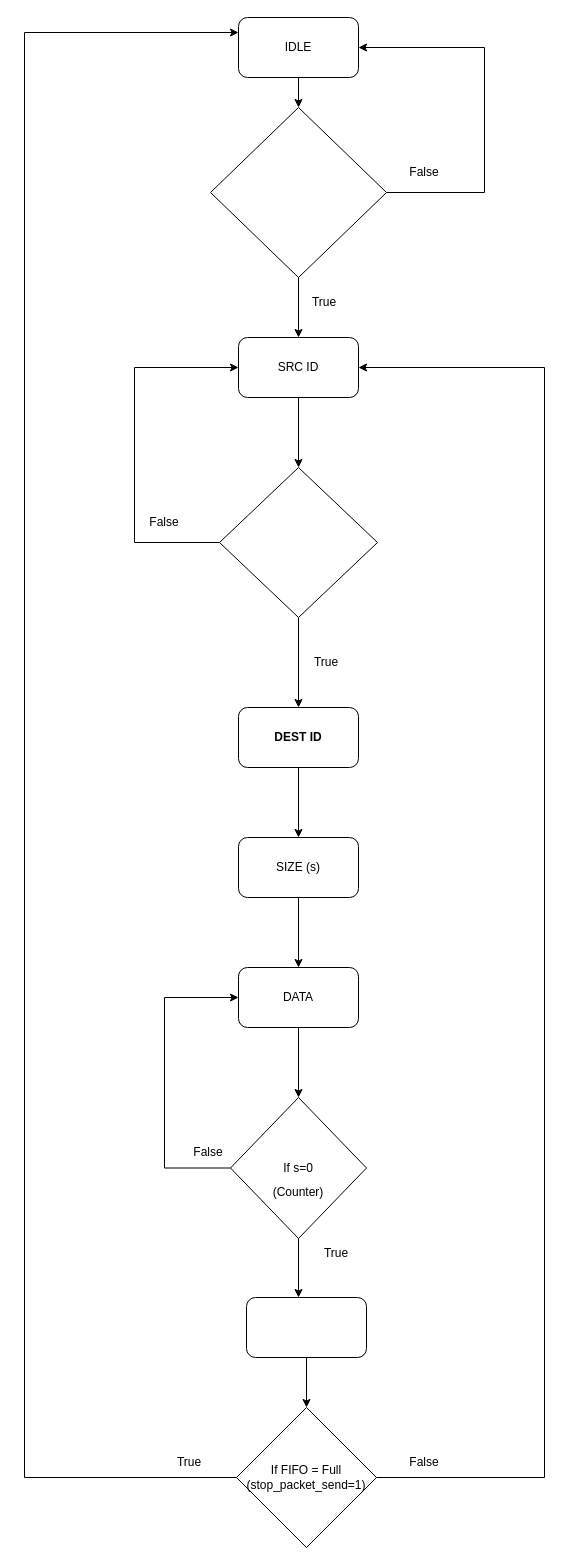
Image size: 570x1565. Some labels were removed from this diagram. The centre of each missing label's shape, as x and y in pixels:
"CRC" goes at point 306,1327.
"If packet_valid_i =1 & clk1 =1 stop_packet_send=0" goes at point 298,192.
"If SRC ID = TS1/TS2/TS3" goes at point 298,542.
